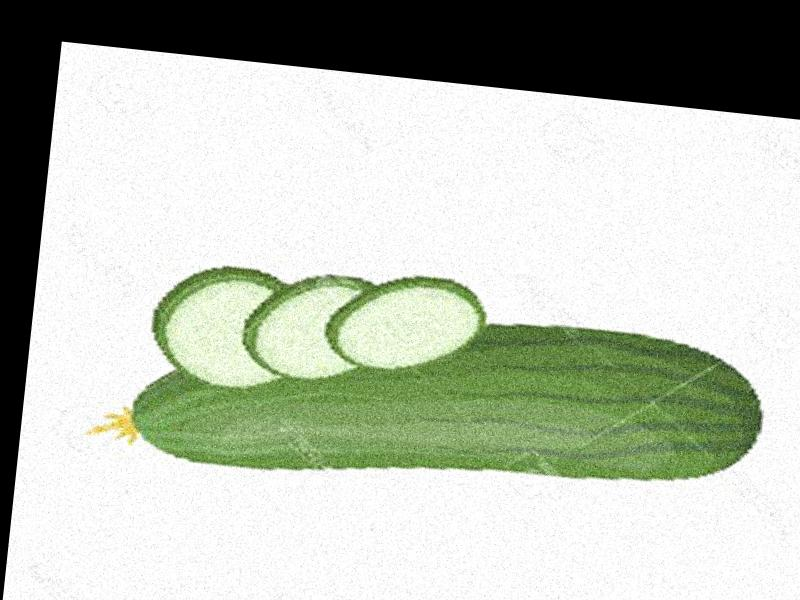Cucumber: (89, 277, 774, 521)
